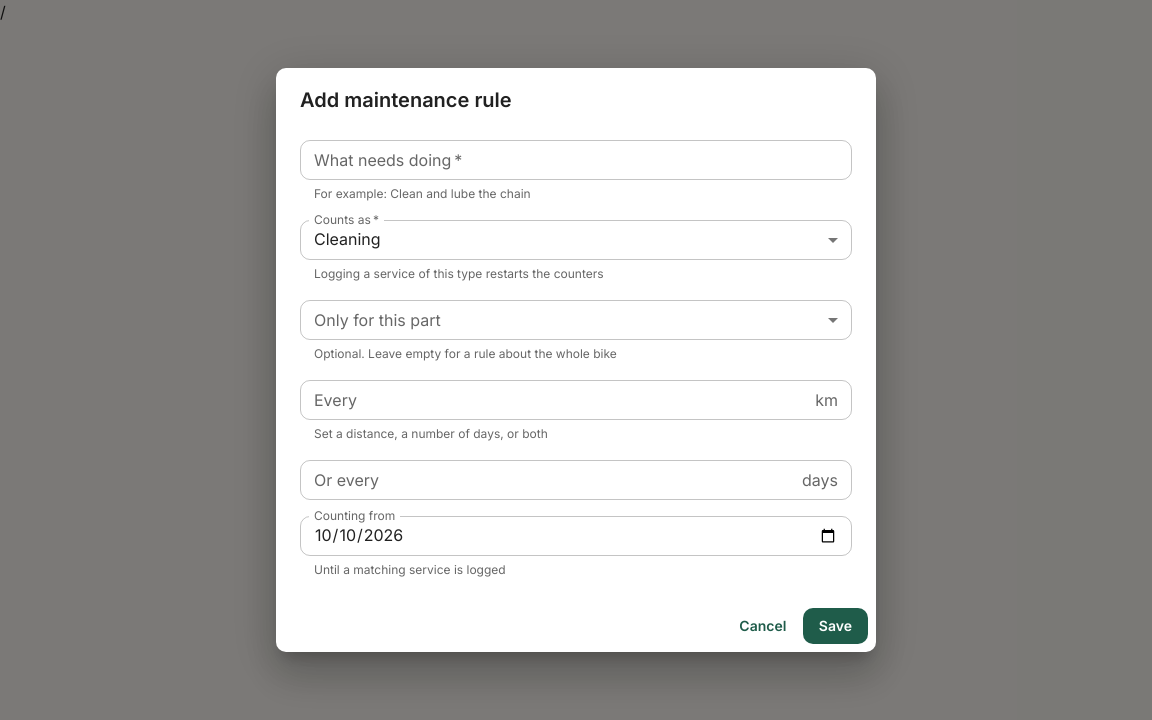
Test: RuleFormDialog › creates the rule for the bike with the typed values
Step 1. Type "Lube chain" into the field labelled "What needs doing *" → (576, 160), box [300,140,852,180]
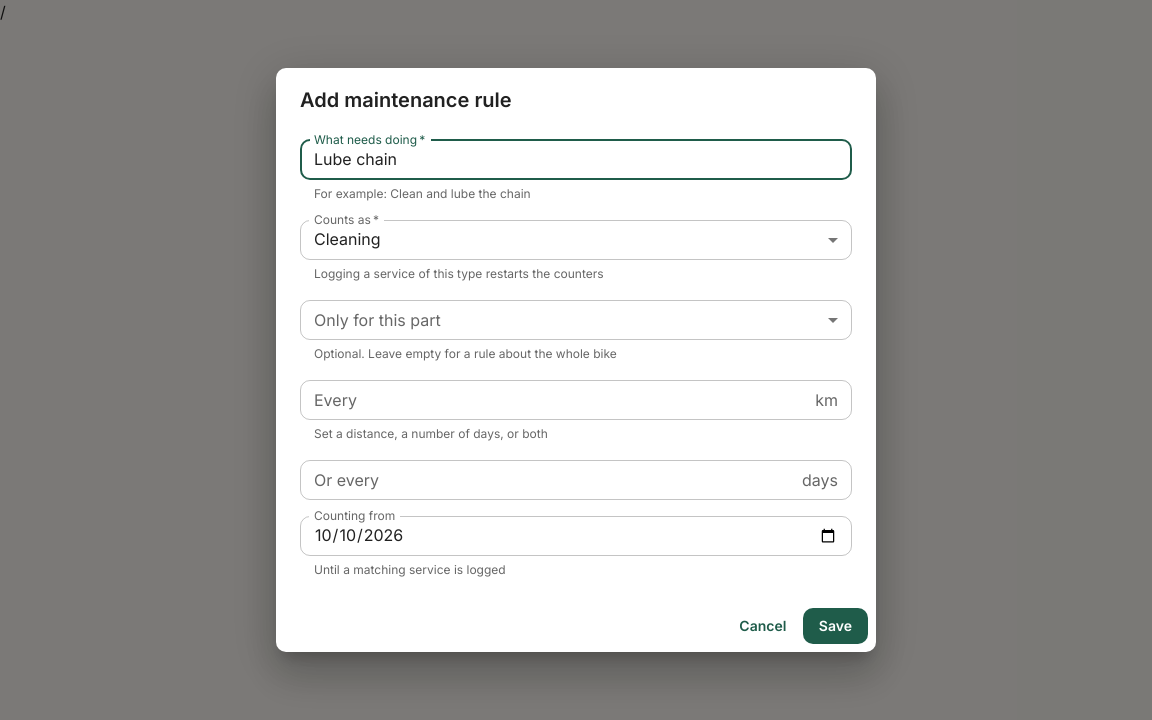
Step 2. Type "300" into the number field labelled "Every" → (554, 400), box [300,380,807,420]
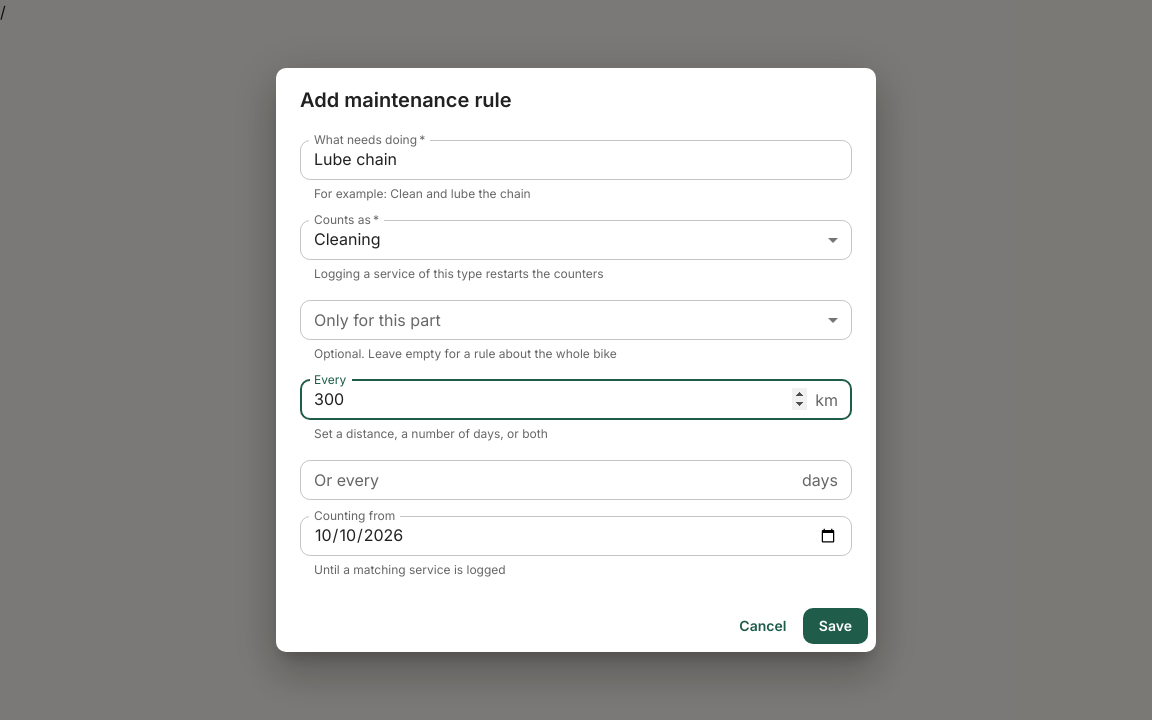
Step 3. Click the button "Save" → (835, 626), box [803,608,868,644]
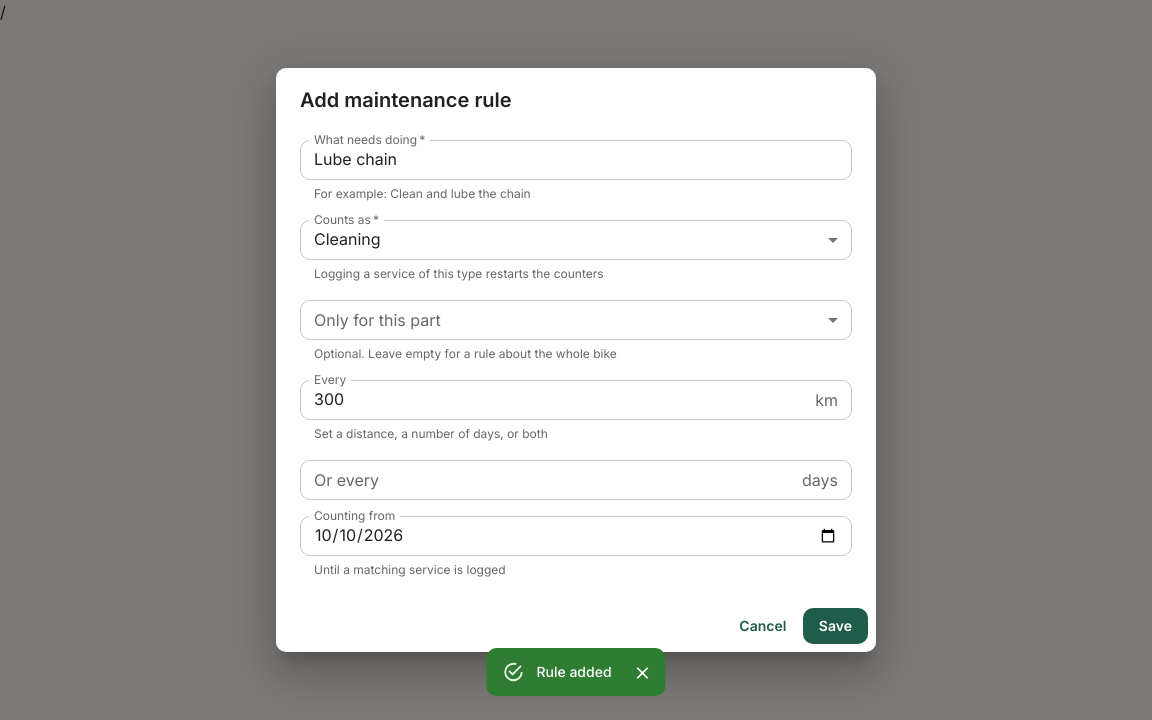
Check: the text "Rule added" is shown, box [536,663,612,680]
